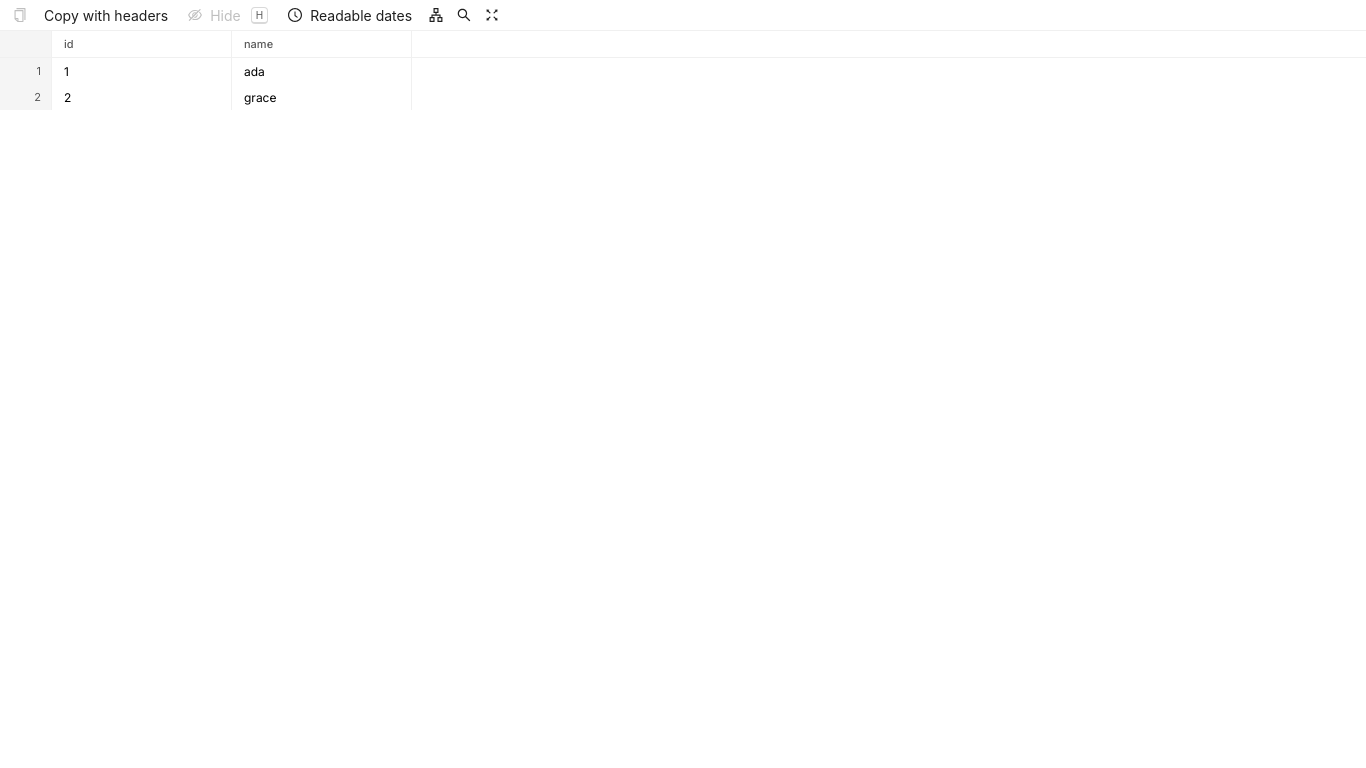
Test: switching between table and graph while big keeps it big
Click the button named "Full screen": {"x": 492, "y": 15} [480, 3, 504, 27]
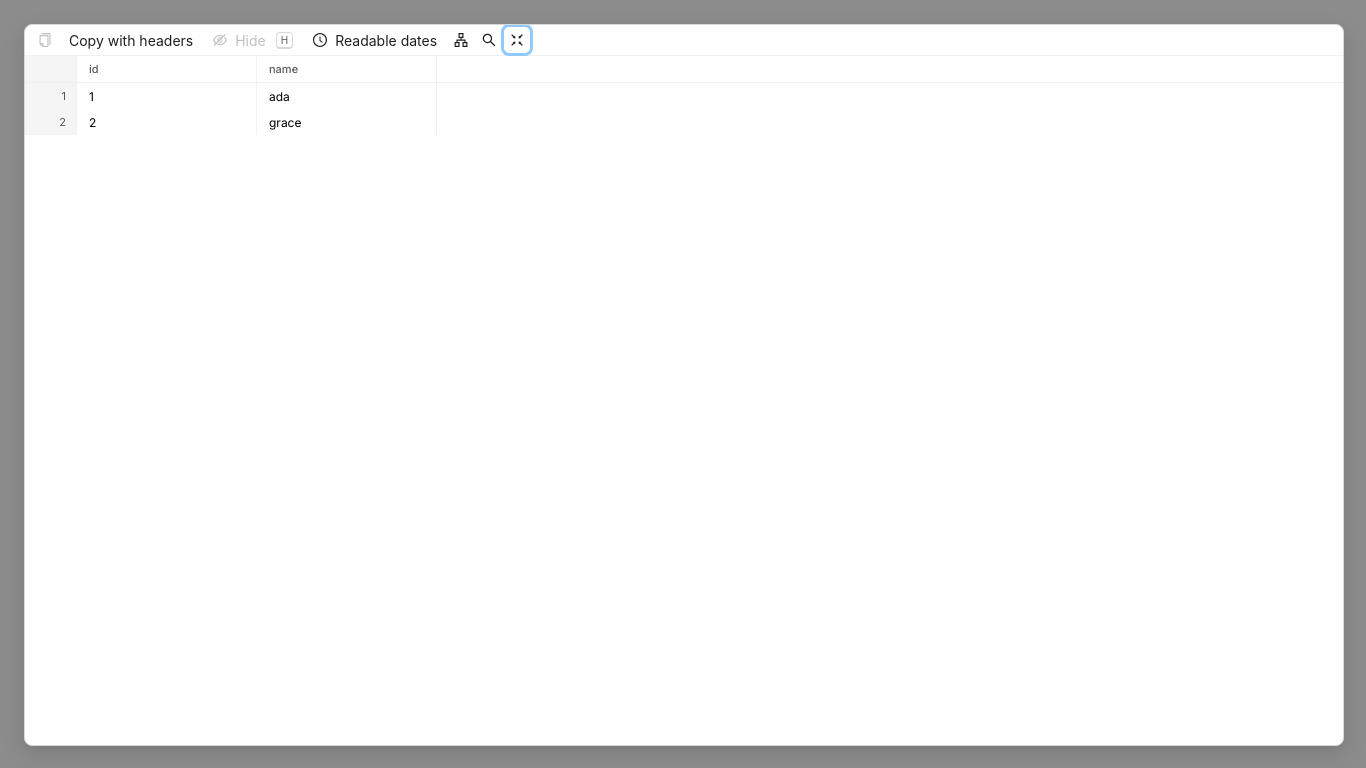
Click the button named "Show as a graph": {"x": 461, "y": 40} [449, 28, 473, 52]
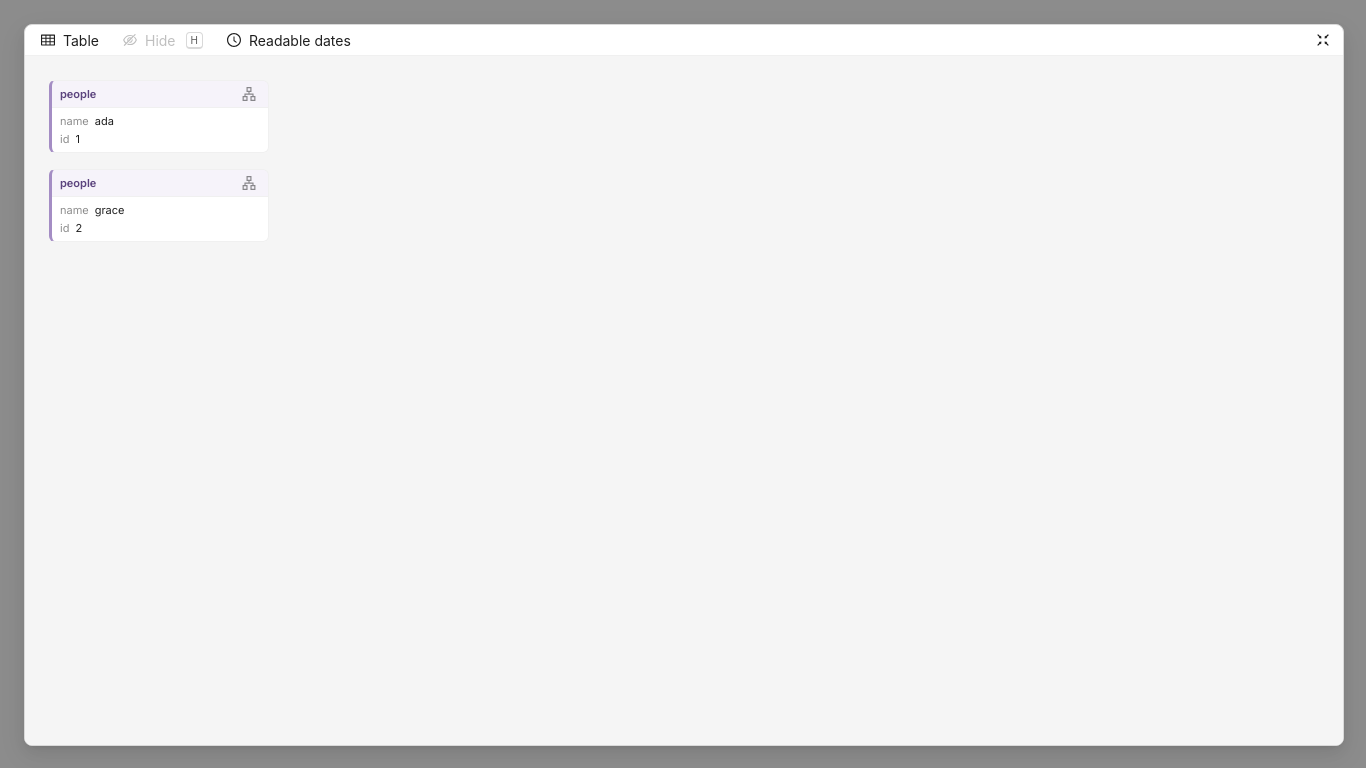
Check: the dialog named "Results" is shown
Check: the element named "Graph of related rows" is shown
Click the button "Table": {"x": 70, "y": 40} [33, 28, 107, 52]
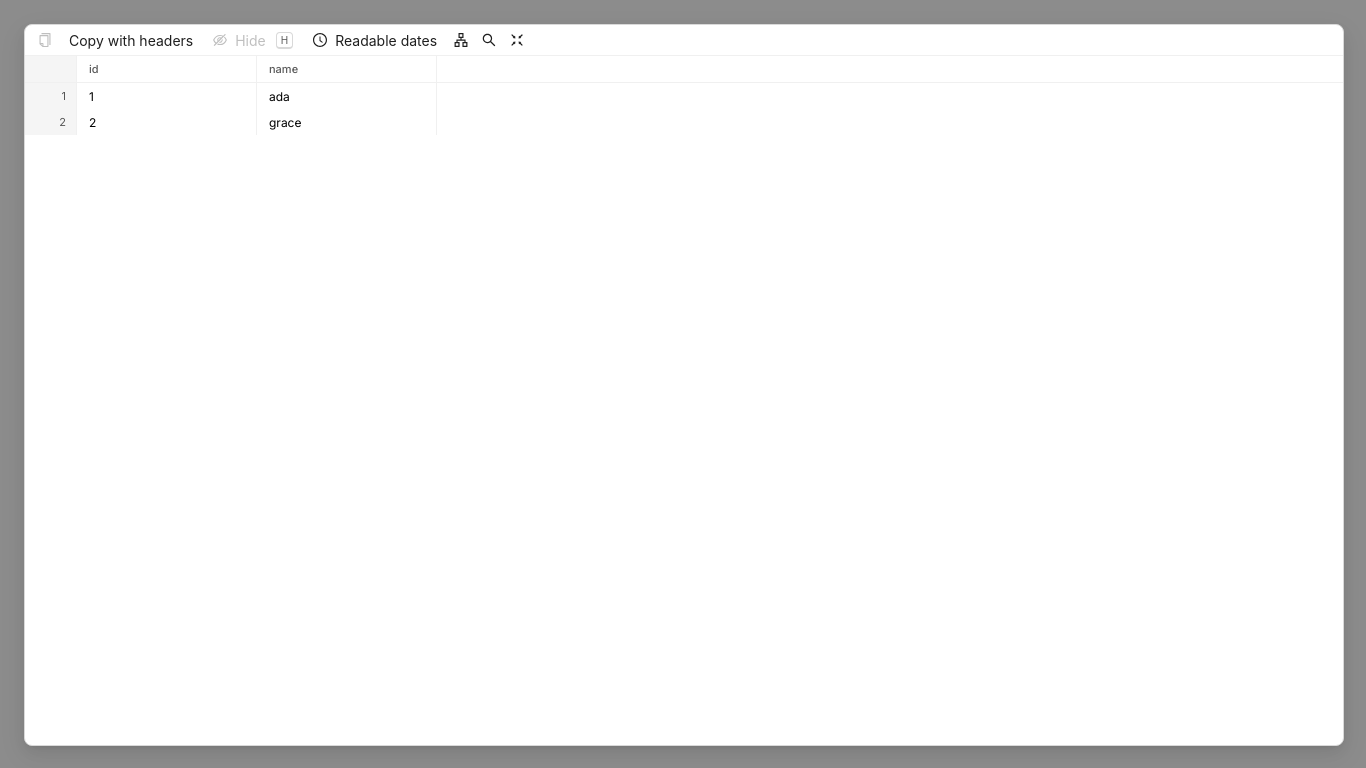
Check: the dialog named "Results" is shown
Check: the table is shown, box [25, 56, 1343, 135]
